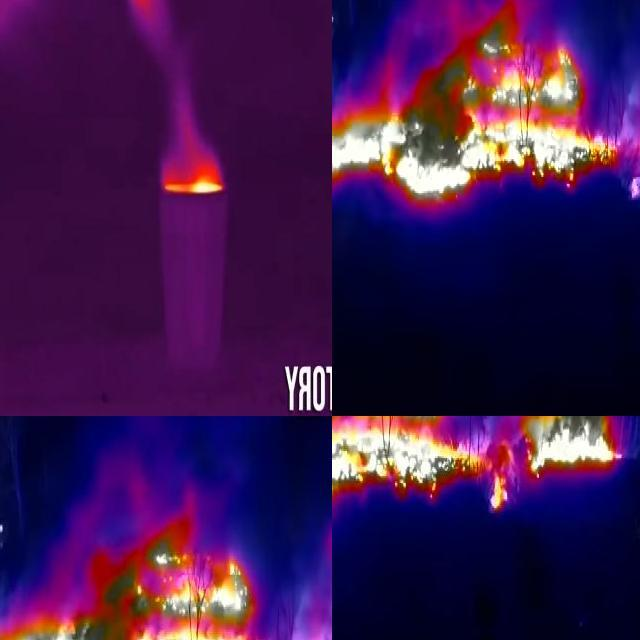fire: (333, 1, 617, 206), (1, 515, 295, 640), (333, 417, 465, 516), (523, 417, 617, 484), (169, 114, 227, 200), (465, 417, 511, 517)
